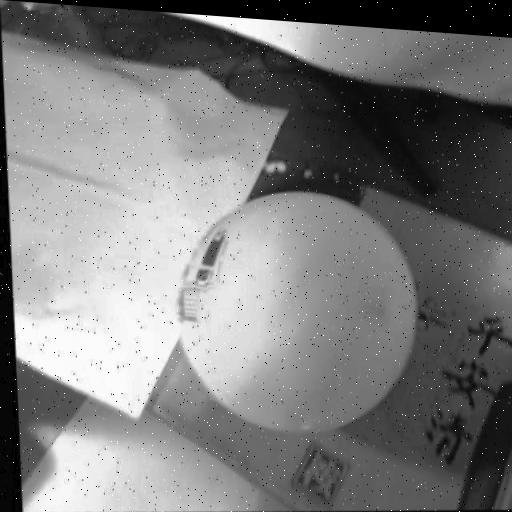balloon: (168, 178, 422, 453)
